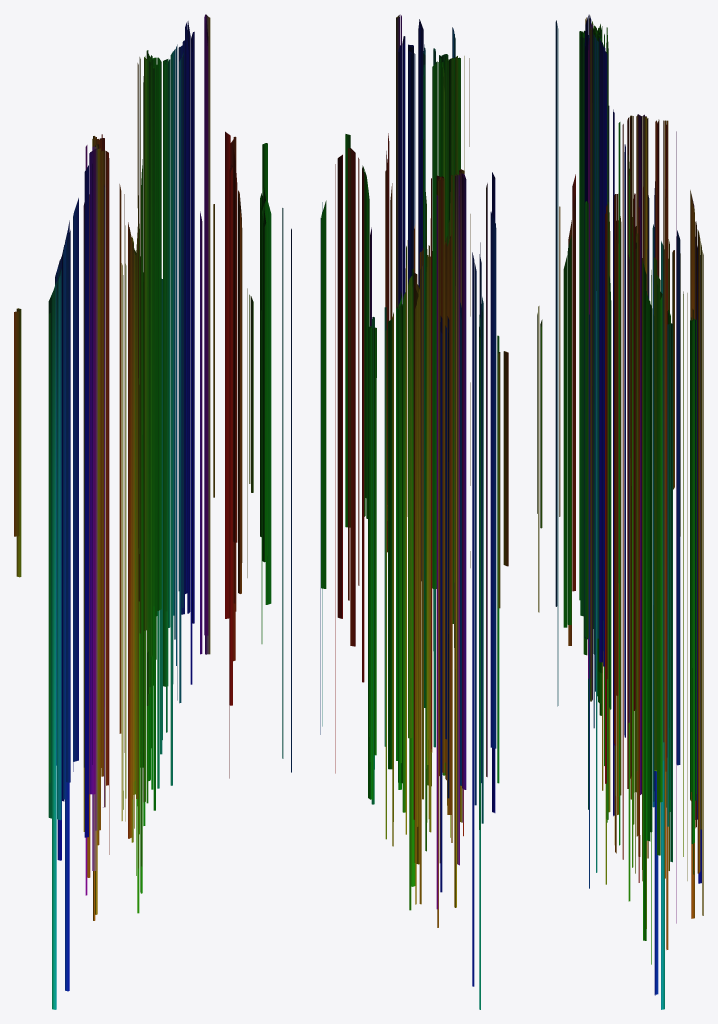
File: zeometry-basic-shapes-line-cluster_v1.fbx
The picture shows the model from 3 angles, left to right: view 1: azimuth 30°, elevation 25°; view 2: azimuth 150°, elevation 25°; view 3: azimuth 270°, elevation 25°; orthographic projection. The views are drawn at different scales.
Parts seen in each view (by area): view 1: Line Cluster_v1; view 2: Line Cluster_v1; view 3: Line Cluster_v1.
Part boxes in pixels (x1,y1,x2,y2): Line Cluster_v1: (14, 14, 291, 1009); Line Cluster_v1: (320, 14, 508, 1009); Line Cluster_v1: (537, 14, 703, 1009).
Size of the model in its own units: 0.1254 by 0.5 by 0.0719.
